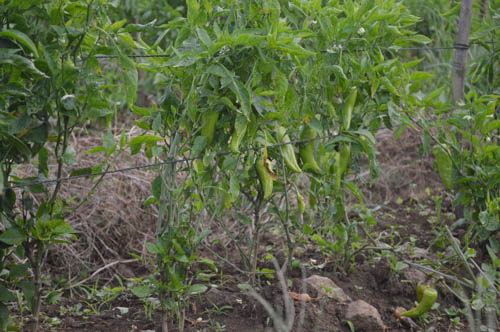ChiliPepper: (405, 286, 438, 319), (195, 109, 217, 150), (303, 129, 323, 174), (281, 128, 300, 175), (256, 156, 273, 207), (339, 87, 357, 130)
